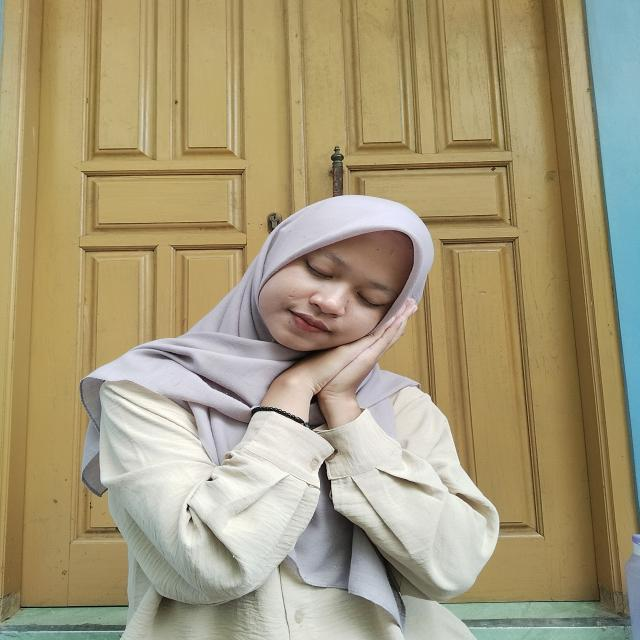tidur: (253, 294, 417, 446)
